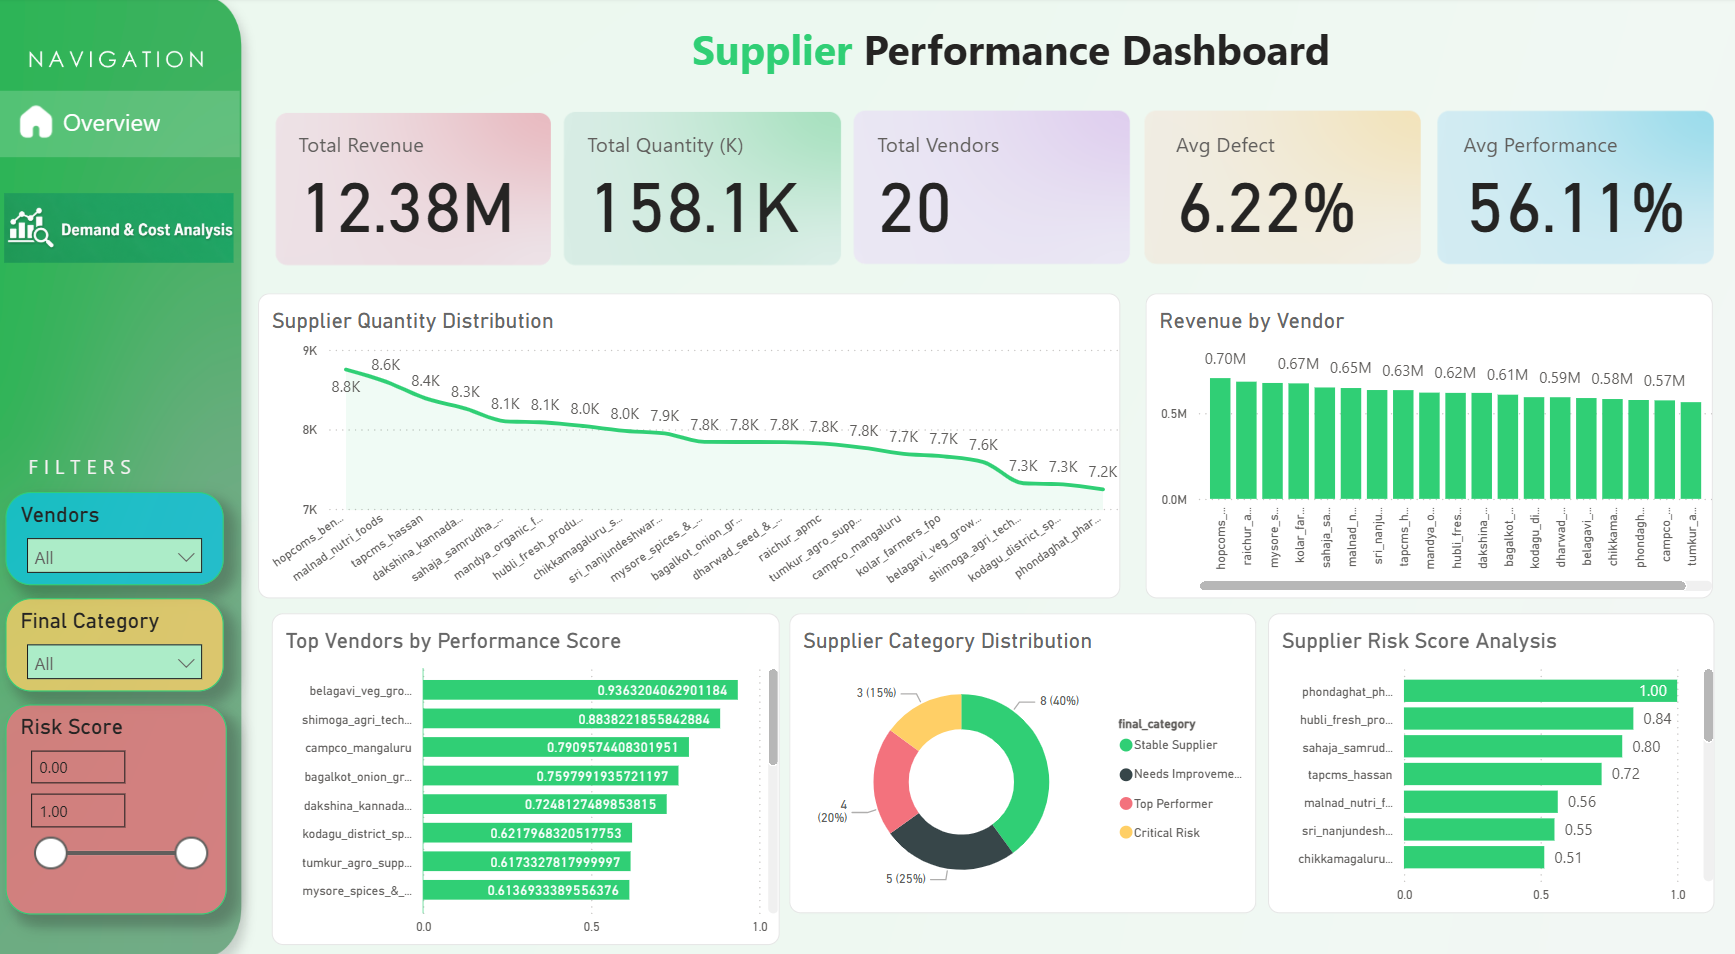

The dashboard page shown, as its layout file describes it:
{"tool":"powerbi","page":{"name":"Overview","canvas":[1360,750],"ordinal":0},"visuals":[{"type":"image","box":[421.4,84.8,256.9,130.2],"z":0},{"type":"image","box":[211.7,84.8,224.7,130.2],"z":1000},{"type":"image","box":[0,0,202.6,749.9],"z":2000},{"type":"image","box":[648,84,256,130],"z":3000},{"type":"lineChart","title":"Supplier Quantity Distribution","fields":{"Category":["dashboard_main.vendor_name"],"Y":["dashboard_main.Total Quantity (K)"]},"box":[202.6,231,673.3,238.4],"z":4000},{"type":"image","box":[888,84,232,130],"z":5000},{"type":"actionButton","box":[10.8,70.6,164.5,54.2],"z":6000},{"type":"image","box":[1104,84,256,130],"z":7000},{"type":"shape","box":[0,72.9,189,51.9],"z":9000},{"type":"clusteredBarChart","title":"Top Vendors by Performance Score","fields":{"Category":["dashboard_main.vendor_name"],"Y":["Sum(dashboard_main.performance_score)"]},"box":[213.7,481.8,396.6,259.4],"z":12000},{"type":"textbox","box":[537.4,13.6,514,59.3],"z":13000},{"type":"image","box":[16.1,35.7,150.9,30],"z":14000},{"type":"lineStackedColumnComboChart","title":"Revenue by Vendor","fields":{"Category":["dashboard_main.vendor_name"],"Y":["dashboard_main.Revenue_Scaled"]},"box":[896.7,231.2,443.4,238.6],"z":15000},{"type":"donutChart","title":"Supplier Category Distribution","fields":{"Category":["dashboard_main.final_category"],"Y":["CountNonNull(dashboard_main.vendor_name)"]},"box":[618.2,481.7,364.5,234.4],"z":16000},{"type":"clusteredBarChart","title":"Supplier Risk Score Analysis","fields":{"Category":["dashboard_main.vendor_name"],"Y":["Sum(dashboard_main.risk_score)"]},"box":[991.7,481.7,349,234.4],"z":17000},{"type":"textbox","box":[18.9,350.3,179.9,44.2],"z":18000},{"type":"cardVisual","fields":{"Data":["dashboard_main.Total Revenue"]},"box":[217.4,102.5,212.5,93.9],"z":19000},{"type":"cardVisual","fields":{"Data":["dashboard_main.Total Quantity (K)"]},"box":[443.5,102.5,212.5,93.9],"z":20000},{"type":"cardVisual","fields":{"Data":["dashboard_main.Total Vendors"]},"box":[669.6,102.5,212.5,93.9],"z":21000},{"type":"cardVisual","fields":{"Data":["dashboard_main.Avg Defect"]},"box":[903.1,102.5,212.5,93.9],"z":22000},{"type":"cardVisual","fields":{"Data":["dashboard_main.Avg Performance"]},"box":[1128,102.5,212.5,93.9],"z":23000},{"type":"slicer","title":"Vendors","fields":{"Values":["dashboard_main.vendor_name"]},"box":[6.2,386.7,170.5,72.9],"z":24000},{"type":"slicer","title":"Final Category","fields":{"Values":["dashboard_main.final_category"]},"box":[6.2,469.5,170.5,72.9],"z":25000},{"type":"slicer","title":"Risk Score","fields":{"Values":["dashboard_main.risk_score"]},"box":[6.2,552.3,173,164.3],"z":26000},{"type":"image","box":[0,148.3,189,64.2],"z":26004}]}

Visuals, with their boxes in screenshot pixels (x1, y1, x2, y2), scaled from the page's 1360x750 canvas onto the 1735x954 screenshot:
image: [538, 108, 865, 273]
image: [270, 108, 557, 273]
image: [0, 0, 258, 953]
image: [827, 107, 1153, 272]
"Supplier Quantity Distribution" lineChart: [258, 294, 1117, 597]
image: [1133, 107, 1429, 272]
actionButton: [14, 90, 224, 159]
image: [1408, 107, 1734, 272]
shape: [0, 93, 241, 159]
"Top Vendors by Performance Score" clusteredBarChart: [273, 613, 779, 943]
textbox: [686, 17, 1341, 93]
image: [21, 45, 213, 84]
"Revenue by Vendor" lineStackedColumnComboChart: [1144, 294, 1710, 598]
"Supplier Category Distribution" donutChart: [789, 613, 1254, 911]
"Supplier Risk Score Analysis" clusteredBarChart: [1265, 613, 1710, 911]
textbox: [24, 446, 254, 502]
cardVisual - dashboard_main.Total Revenue: [277, 130, 548, 250]
cardVisual - dashboard_main.Total Quantity (K): [566, 130, 837, 250]
cardVisual - dashboard_main.Total Vendors: [854, 130, 1125, 250]
cardVisual - dashboard_main.Avg Defect: [1152, 130, 1423, 250]
cardVisual - dashboard_main.Avg Performance: [1439, 130, 1710, 250]
"Vendors" slicer: [8, 492, 225, 585]
"Final Category" slicer: [8, 597, 225, 690]
"Risk Score" slicer: [8, 703, 229, 912]
image: [0, 189, 241, 270]
